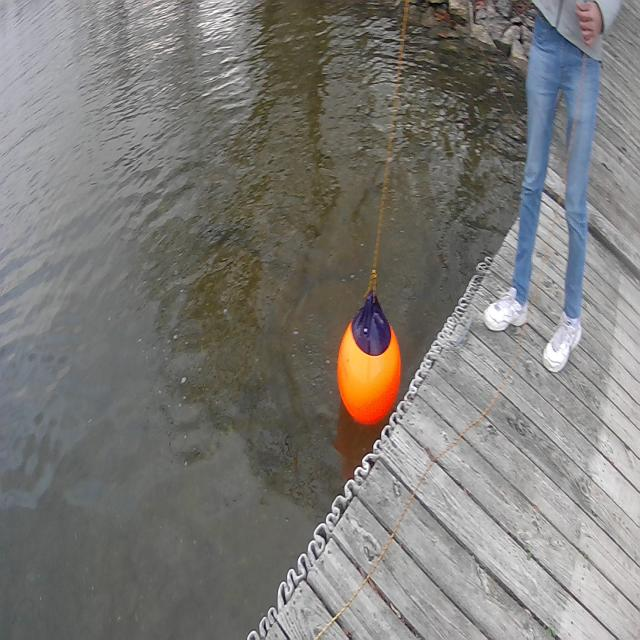Buoy: (337, 282, 407, 438)
